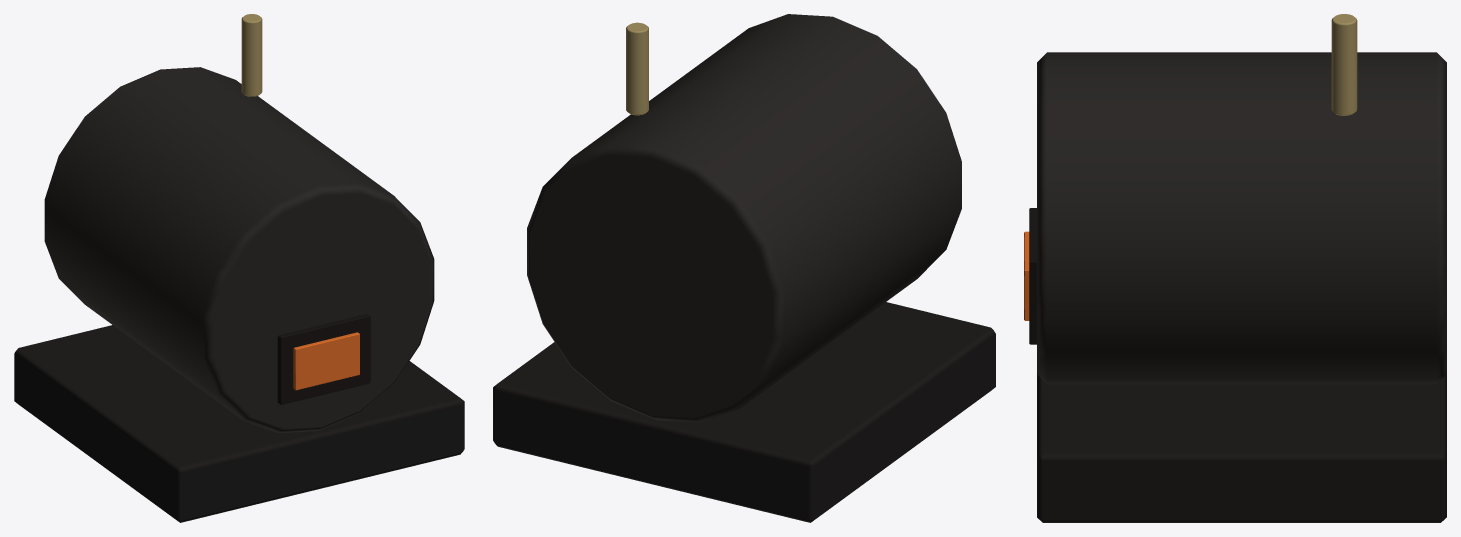
File: boiler.0297aaad.glb
3 views of the same model, side by side, from view 1: azimuth 30°, elevation 25°; view 2: azimuth 150°, elevation 25°; view 3: azimuth 270°, elevation 25° (orthographic). The views are drawn at different scales.
Visible parts, largest first — view 1: body; view 2: body; view 3: body.
Boxes of the visible parts, left/top/right/bottom form: body: left=14, top=14, right=464, bottom=522; body: left=493, top=14, right=995, bottom=522; body: left=1024, top=14, right=1446, bottom=522.
Size of the model in its own units: 1.6 by 1.95 by 1.65.
